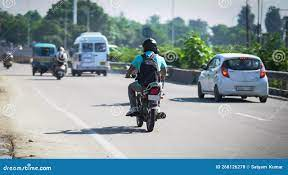with_helmet: (142, 39, 158, 52)
